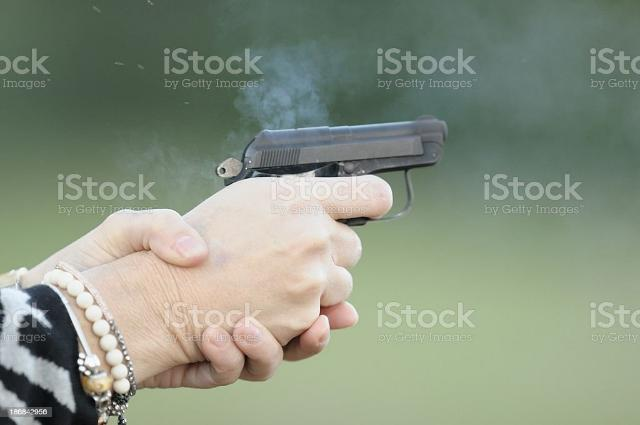handgun: (211, 108, 455, 242)
